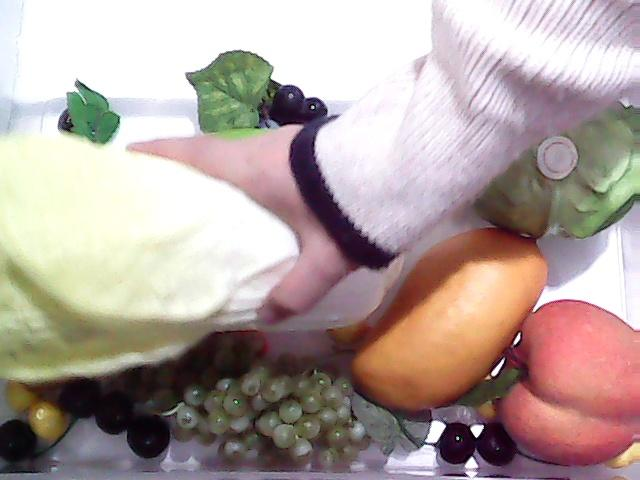cabbage: (444, 51, 640, 257)
grape: (125, 342, 395, 462), (184, 45, 328, 133)
mango: (347, 228, 546, 416)
napa cabbage: (0, 107, 372, 404)
peach: (492, 294, 640, 466)
